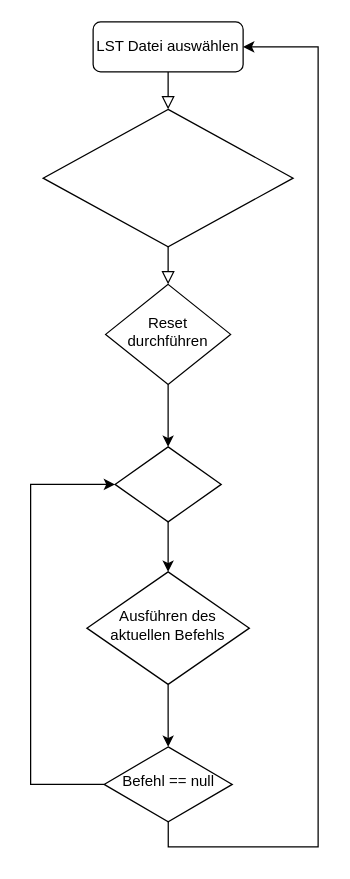
Image size: 350x879. Some labels were removed from this diagram. The shapes that lost their labels are listed below. From the top down, each one's centre as x and y in pixels, then its label:
pixel 167 177: Einlesen der Datei und Speicherung der Befehle in Programmspeicher
pixel 167 484: PC erhöhen
